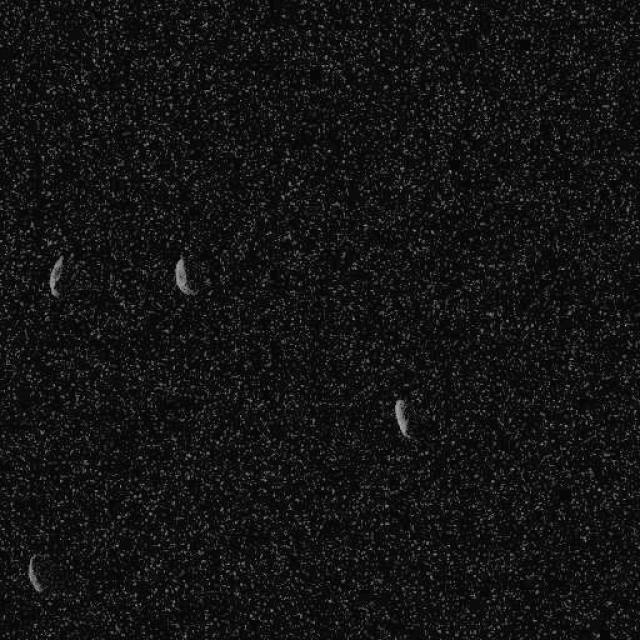D2: (172, 255, 196, 296), (392, 396, 412, 439), (47, 254, 65, 298), (26, 552, 44, 592)
